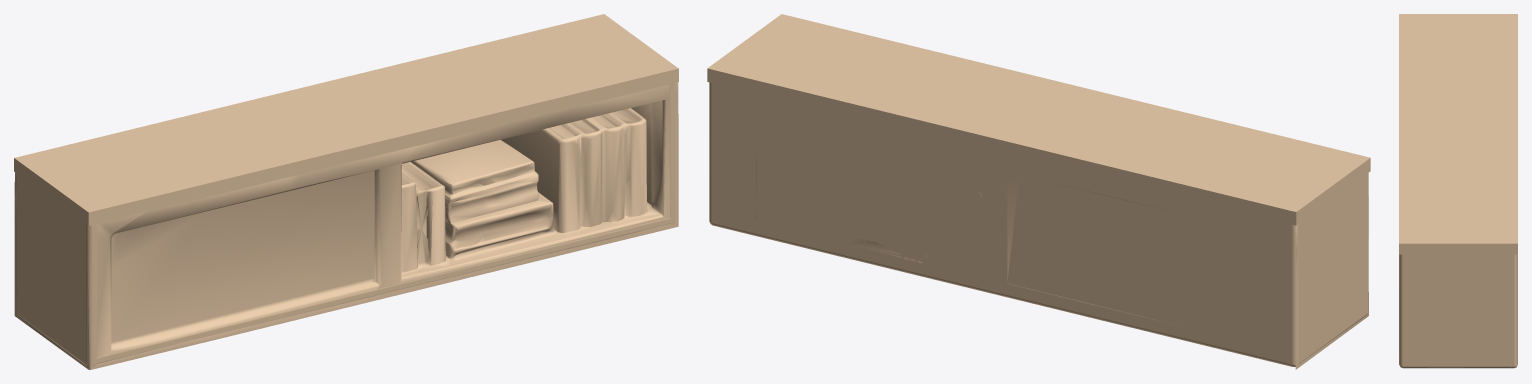
File: show_bedroom_low_shelf.glb
The picture shows the model from 3 angles, left to right: view 1: azimuth 30°, elevation 25°; view 2: azimuth 150°, elevation 25°; view 3: azimuth 270°, elevation 25°; orthographic projection. The views are drawn at different scales.
Bounding box in the file's own units: 3.2 × 0.82 × 0.7.
